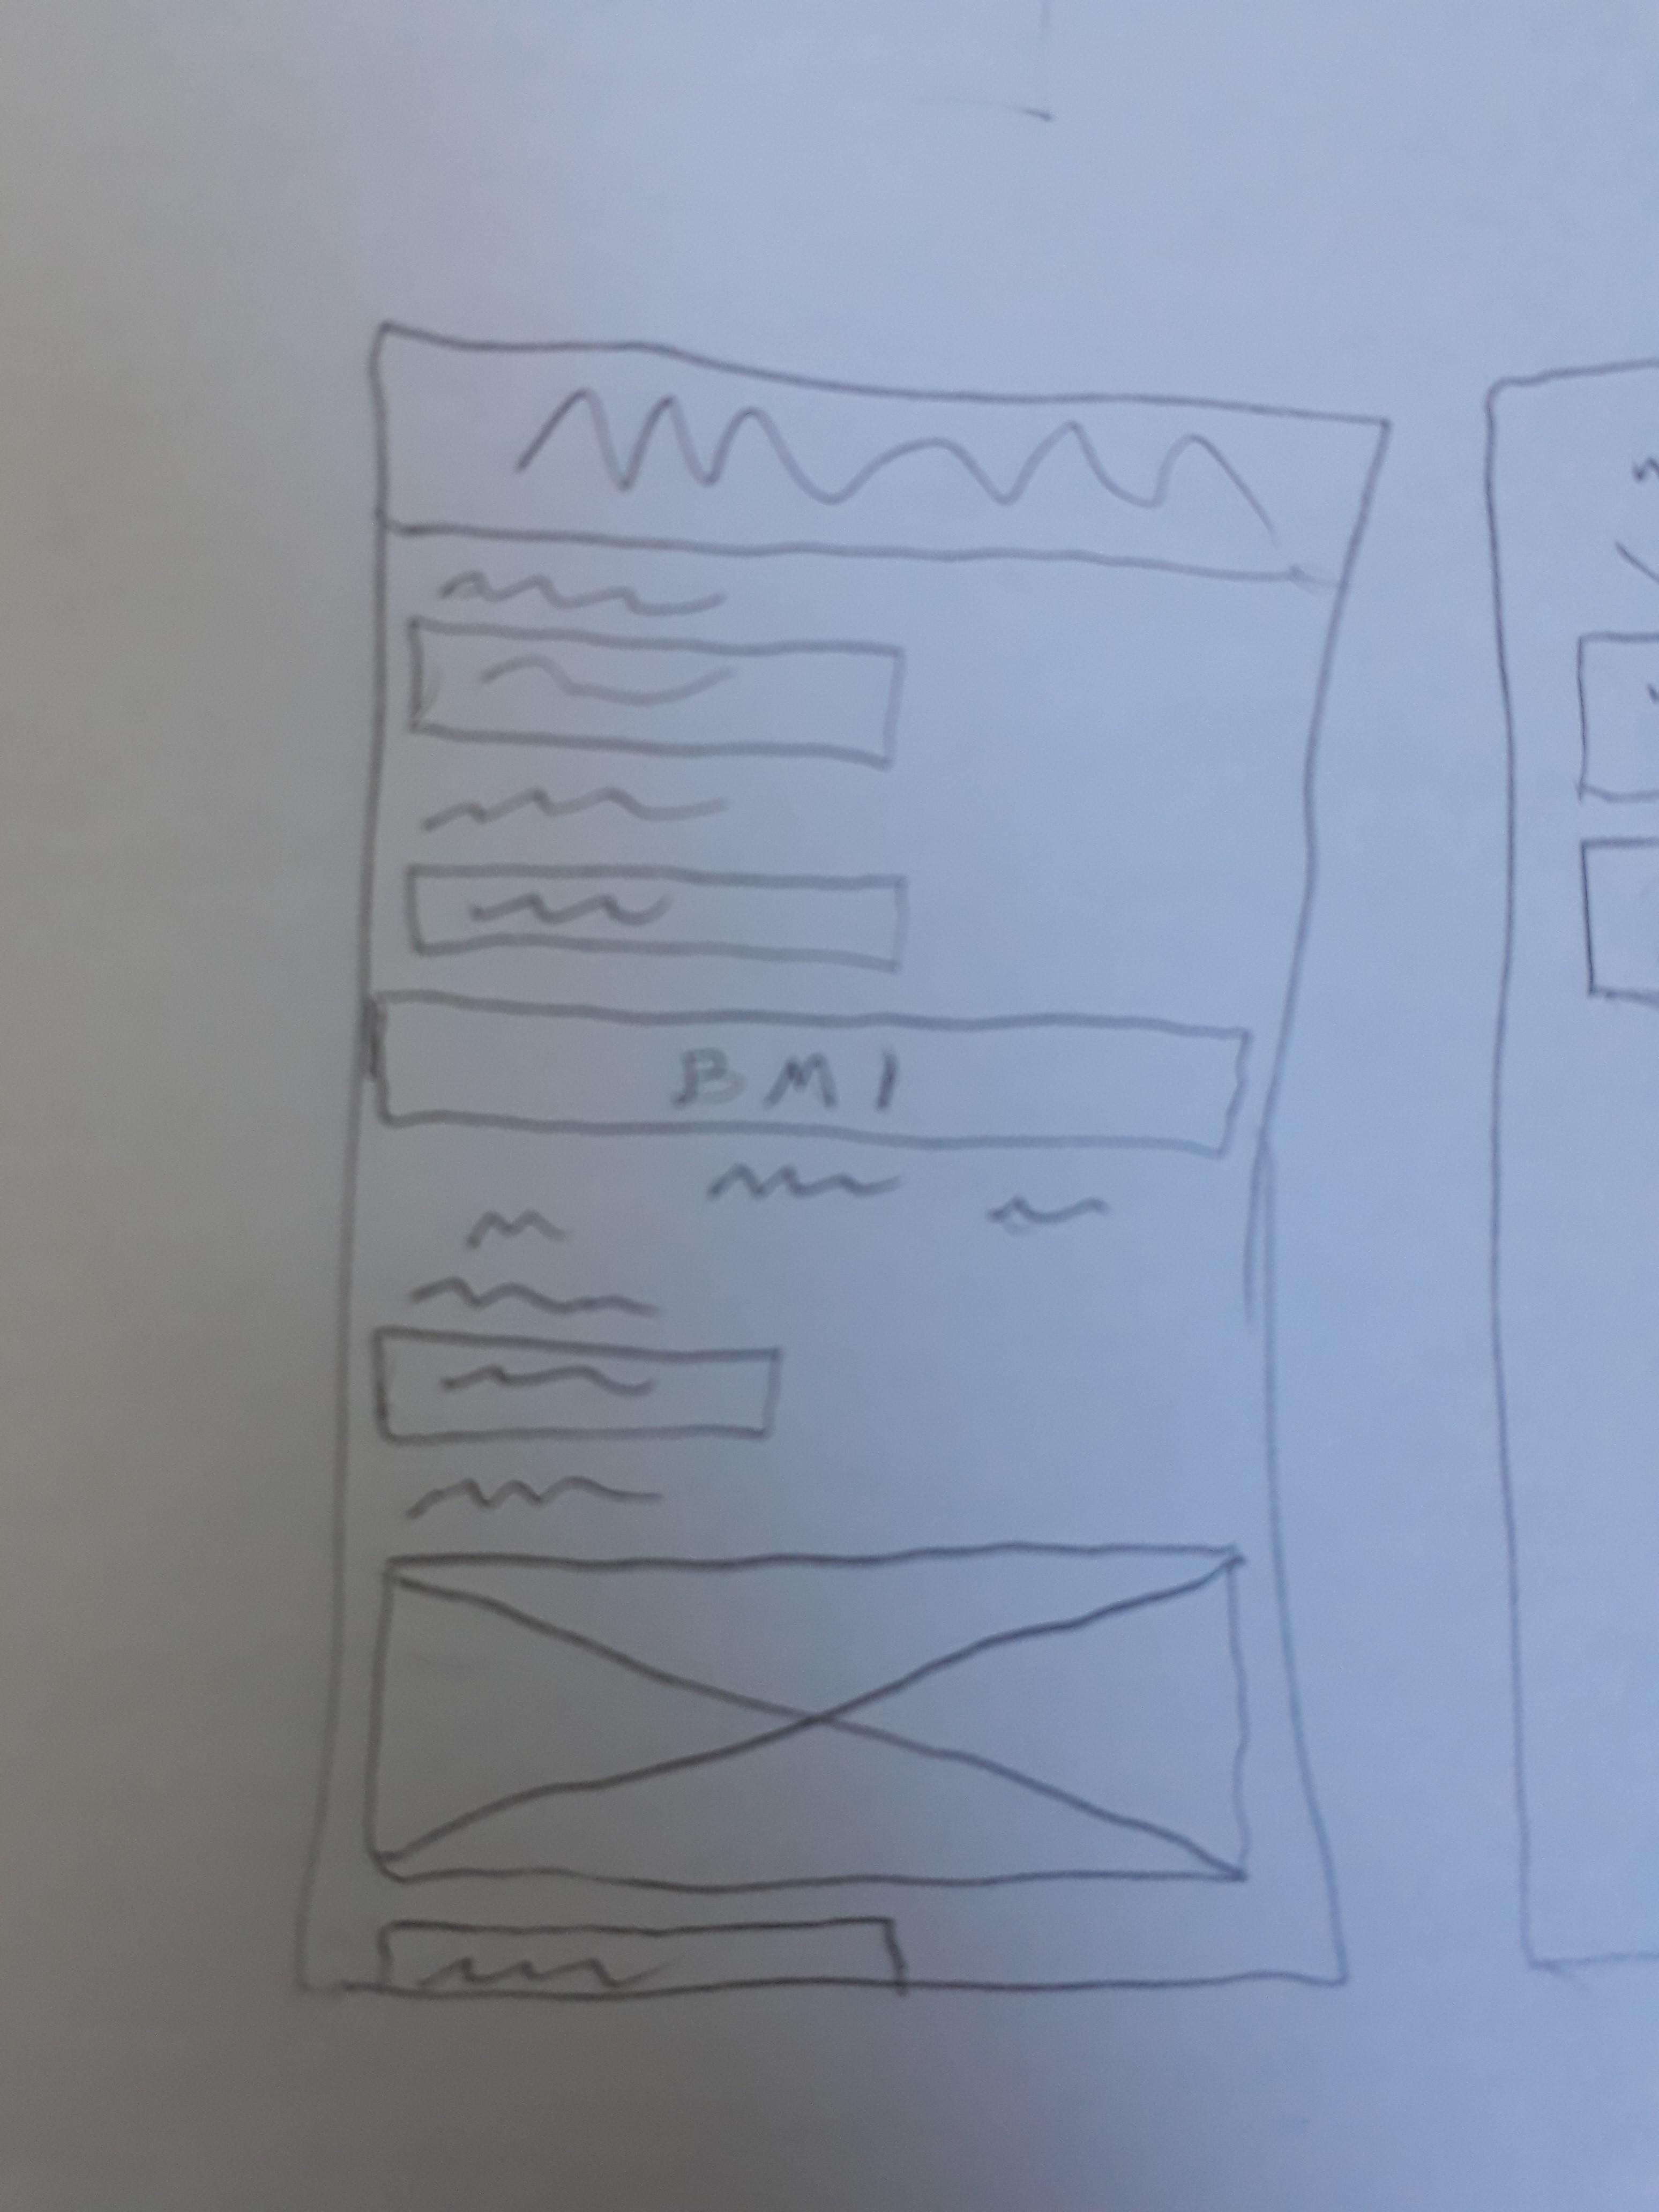Button: (371, 988, 1249, 1158), (373, 1325, 782, 1442)
Image: (364, 1545, 1243, 1883)
Label: (519, 385, 1277, 538), (437, 571, 728, 618), (420, 787, 725, 831), (406, 1474, 660, 1519), (408, 1271, 657, 1317), (708, 1163, 899, 1198), (986, 1190, 1103, 1226), (465, 1212, 570, 1249)
Screen: (298, 319, 1391, 1998)
TextBox: (406, 615, 906, 768), (406, 862, 918, 972), (383, 1918, 906, 2000)
